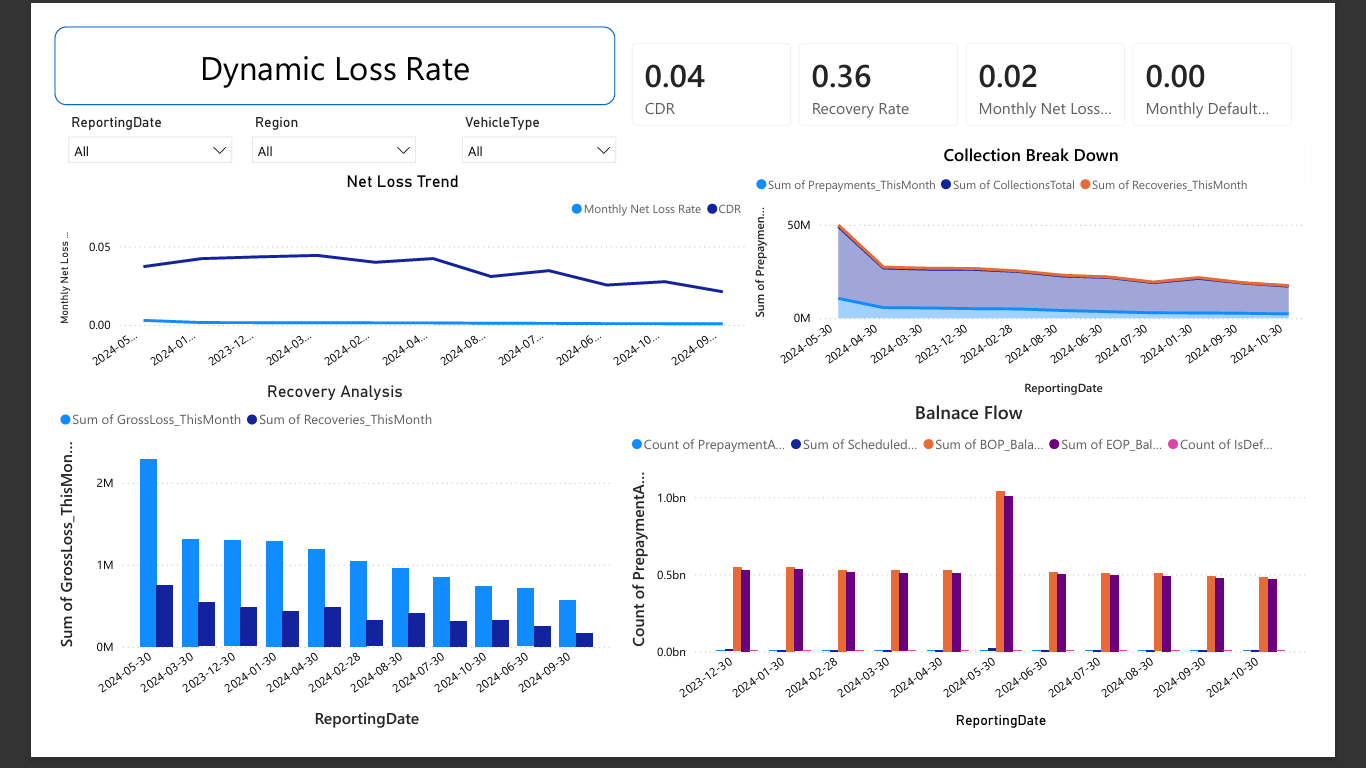

This screenshot's page, from the dashboard's own definition file:
{"tool":"powerbi","page":{"name":"Dynamic loss Rate","canvas":[1280,720],"ordinal":3},"visuals":[{"type":"cardVisual","fields":{"Data":["projects dim_date.CDR","projects dim_date.Recovery Rate","projects dim_date.Monthly Net Loss Rate","projects dim_date.Monthly Default Rate"]},"box":[571.2,0,708.8,118.4],"z":0},{"type":"clusteredColumnChart","title":"Balnace Flow","fields":{"Category":["projects dynamic_loss_monthly.ReportingDate"],"Y":["CountNonNull(projects dim_loans.PrepaymentAmount)","Sum(projects dynamic_loss_monthly.ScheduledAmort)","Sum(projects dynamic_loss_monthly.BOP_Balance)","Sum(projects dynamic_loss_monthly.EOP_Balance)","CountNonNull(projects dim_loans.IsDefaulted)"]},"box":[582.2,379.9,697.8,340],"z":1000},{"type":"lineChart","title":"Net Loss Trend","fields":{"Category":["projects dynamic_loss_monthly.ReportingDate"],"Y":["projects dim_date.Monthly Net Loss Rate","projects dim_date.CDR"]},"box":[0,147.3,708.8,232.6],"z":2000},{"type":"clusteredColumnChart","title":"Recovery Analysis","fields":{"Category":["projects dynamic_loss_monthly.ReportingDate"],"Y":["Sum(projects dynamic_loss_monthly.GrossLoss_ThisMonth)","Sum(projects dynamic_loss_monthly.Recoveries_ThisMonth)"]},"box":[0,360.6,571.2,359.2],"z":3000},{"type":"stackedAreaChart","title":"Collection Break Down","fields":{"Y":["Sum(projects dynamic_loss_monthly.Prepayments_ThisMonth)","Sum(projects dynamic_loss_monthly.CollectionsTotal)","Sum(projects dynamic_loss_monthly.Recoveries_ThisMonth)"],"Category":["projects dynamic_loss_monthly.ReportingDate"]},"box":[708.8,118.4,571.2,261.5],"z":4000},{"type":"shape","box":[0,0,571.2,79.8],"z":5000},{"type":"slicer","fields":{"Values":["projects dynamic_loss_monthly.ReportingDate"]},"box":[0,79.8,187.2,67.4],"z":6000},{"type":"slicer","fields":{"Values":["projects dim_loans.Region"]},"box":[191.3,84,187.2,63.3],"z":7000},{"type":"slicer","fields":{"Values":["projects dim_loans.VehicleType"]},"box":[404.6,84,177.5,63.3],"z":8000}]}

Visuals, with their boxes in screenshot pixels (x1, y1, x2, y2), scaled from the page's 1280x720 canvas onto the 1366x768 screenshot:
cardVisual - projects dim_date.CDR x projects dim_date.Recovery Rate: {"left": 610, "top": 0, "right": 1365, "bottom": 126}
"Balnace Flow" clusteredColumnChart: {"left": 621, "top": 405, "right": 1365, "bottom": 767}
"Net Loss Trend" lineChart: {"left": 0, "top": 157, "right": 756, "bottom": 405}
"Recovery Analysis" clusteredColumnChart: {"left": 0, "top": 385, "right": 610, "bottom": 767}
"Collection Break Down" stackedAreaChart: {"left": 756, "top": 126, "right": 1365, "bottom": 405}
shape: {"left": 0, "top": 0, "right": 610, "bottom": 85}
slicer - projects dynamic_loss_monthly.ReportingDate: {"left": 0, "top": 85, "right": 200, "bottom": 157}
slicer - projects dim_loans.Region: {"left": 204, "top": 90, "right": 404, "bottom": 157}
slicer - projects dim_loans.VehicleType: {"left": 432, "top": 90, "right": 621, "bottom": 157}
